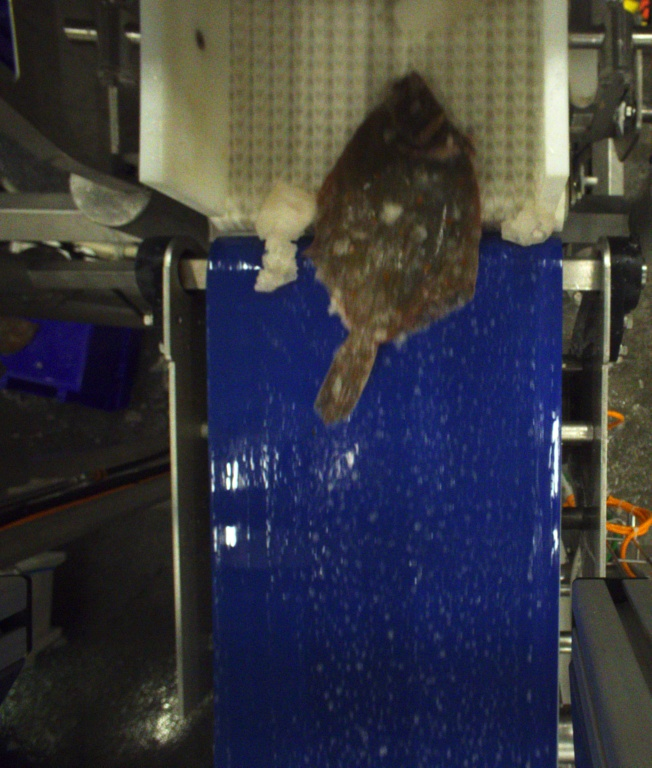PLE: (305, 69, 484, 422)
